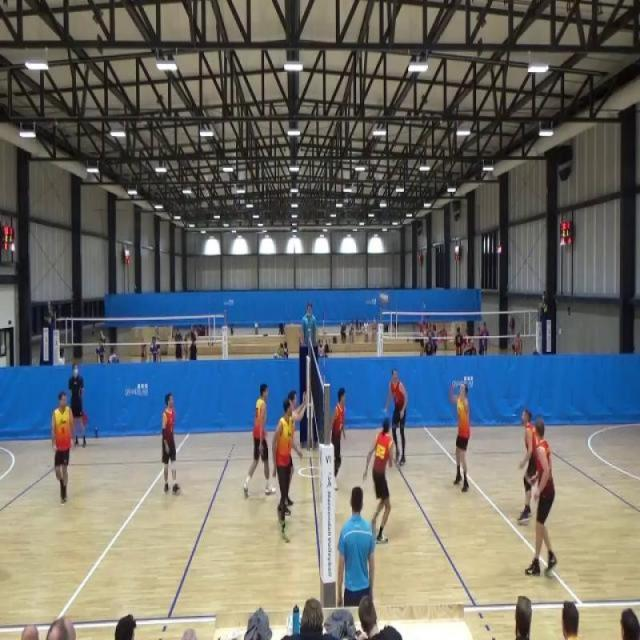volleyball: (378, 292, 391, 308)
